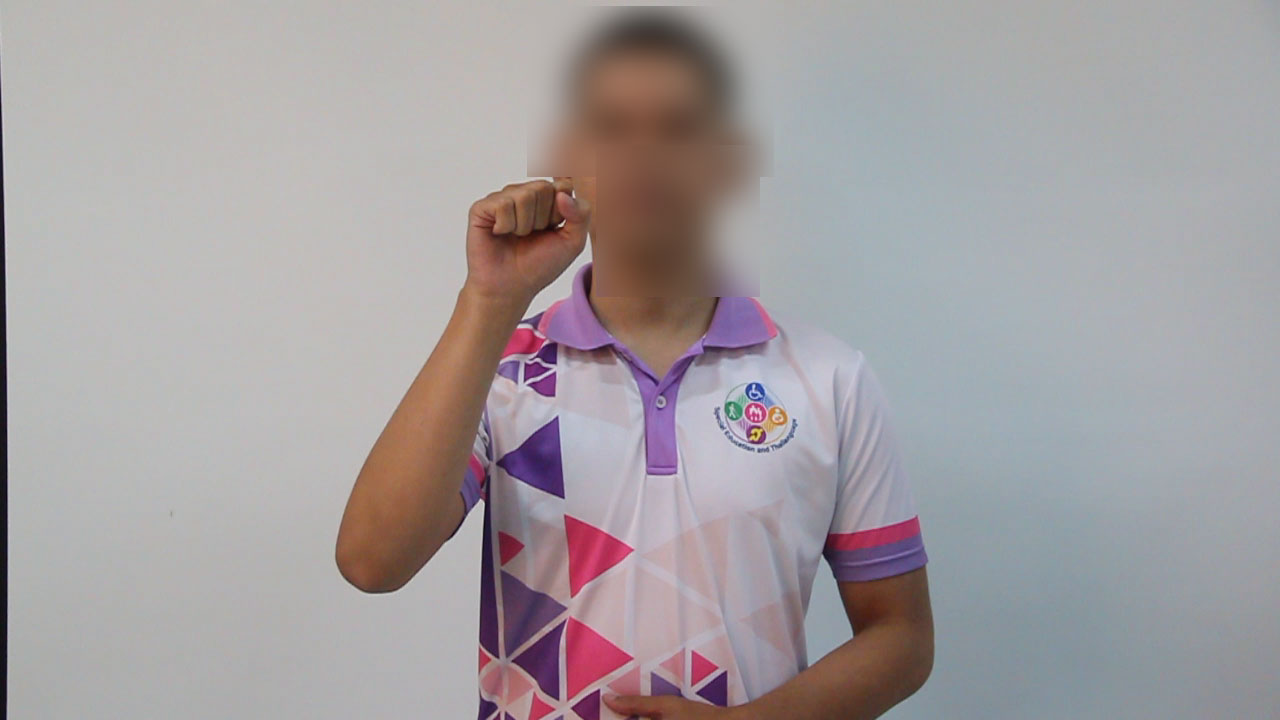sor: (444, 162, 596, 308)
